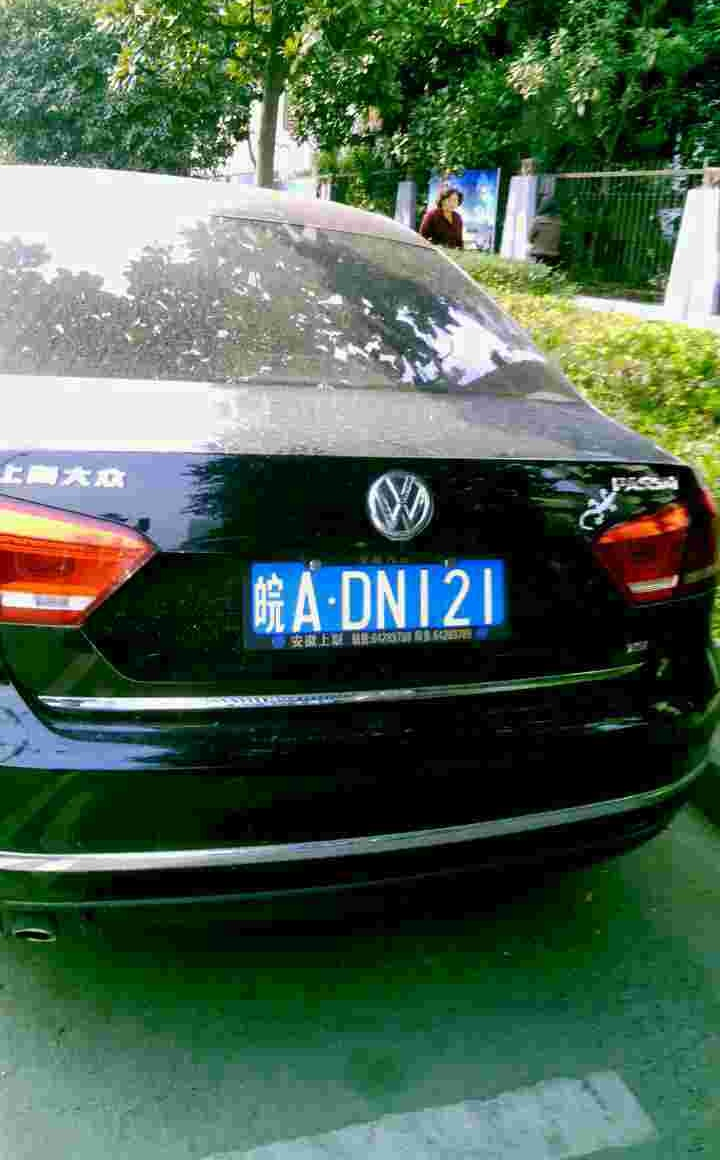license_plate: (248, 558, 497, 645)
